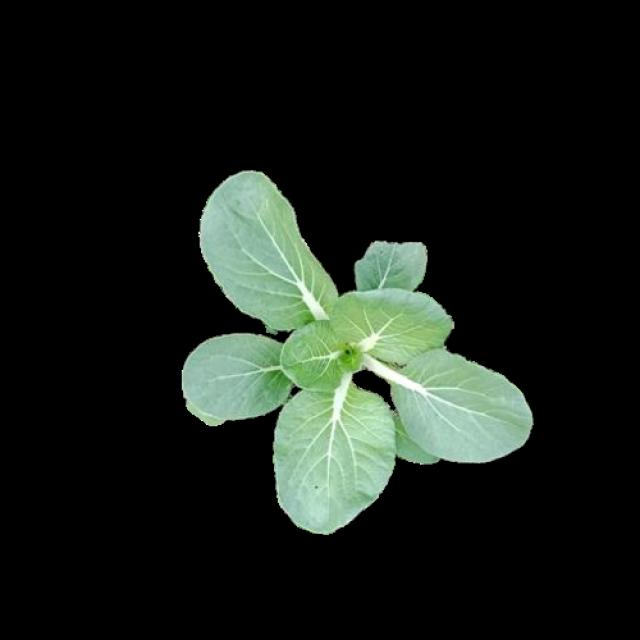healthy: (180, 168, 530, 530)
not-mature: (183, 170, 533, 532)
